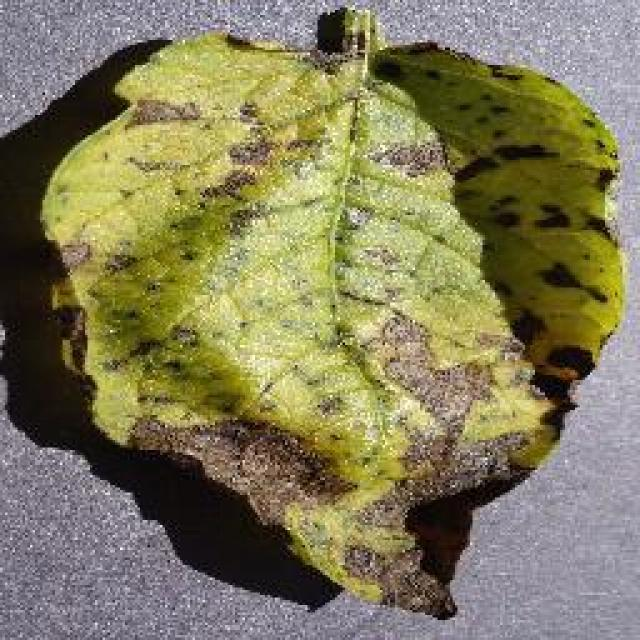Potato___Early_blight: (31, 3, 626, 624)
